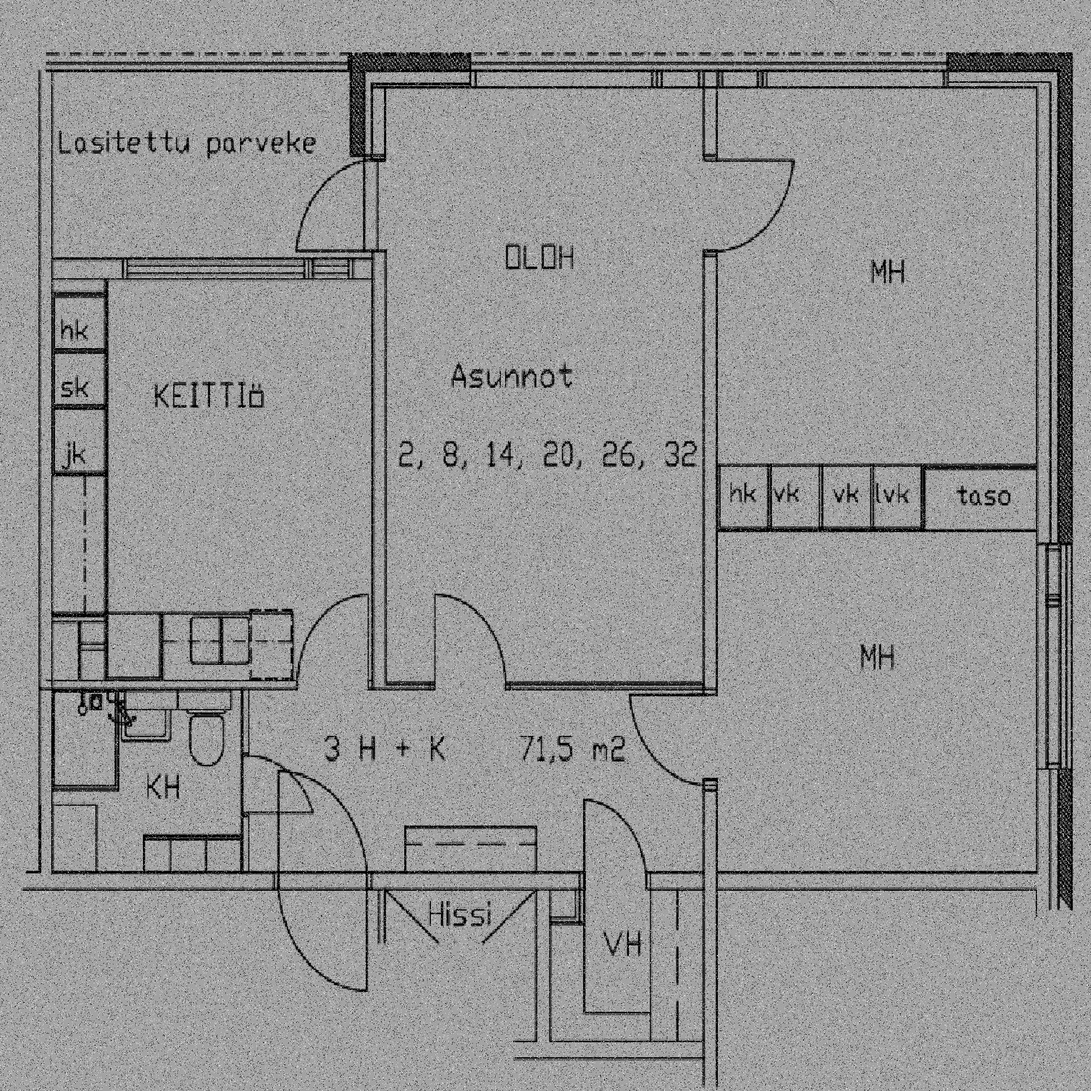wall: (1040, 54, 1072, 892), (351, 55, 1072, 91), (35, 869, 1072, 892), (704, 54, 720, 892), (35, 258, 54, 893), (35, 258, 385, 279), (35, 54, 352, 75), (35, 612, 109, 687), (35, 682, 720, 689), (375, 279, 385, 689), (534, 1040, 720, 1061), (35, 55, 52, 258), (351, 55, 385, 156), (534, 869, 551, 1061), (704, 893, 720, 1061), (365, 156, 385, 279), (534, 888, 580, 922), (243, 682, 250, 893)
